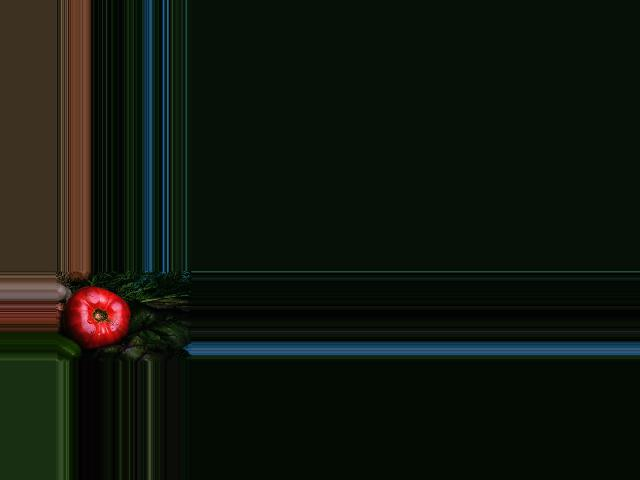tomato: (61, 286, 130, 351)
